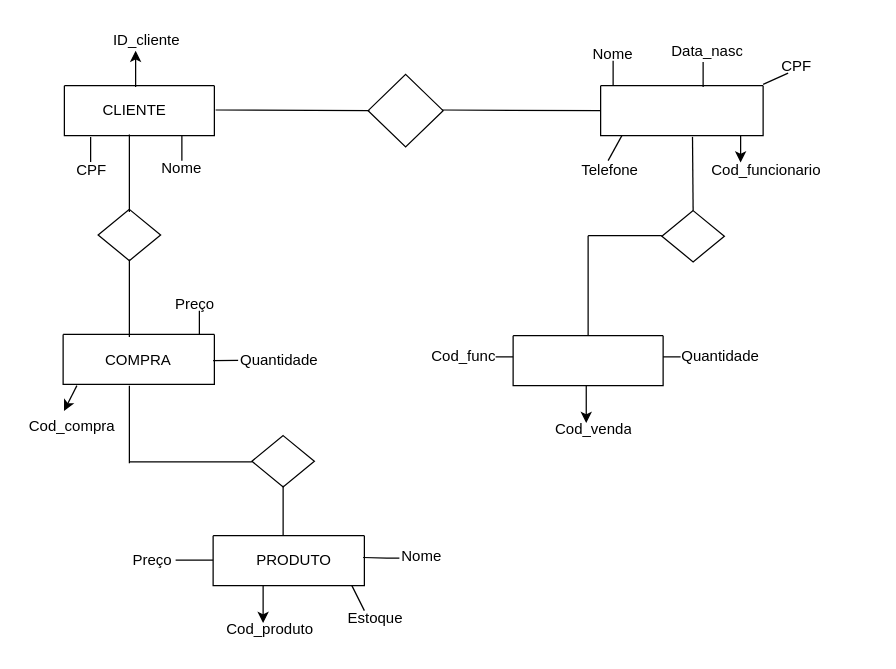
Some shapes in this 896 by 669 pixel diagram are drawn without their labels. Here are the shapes that lost their labels. From the top down, the centre of each, then its label:
At (x=681, y=110): "FUNCIONÁRIO".
At (x=587, y=360): "VENDA".
